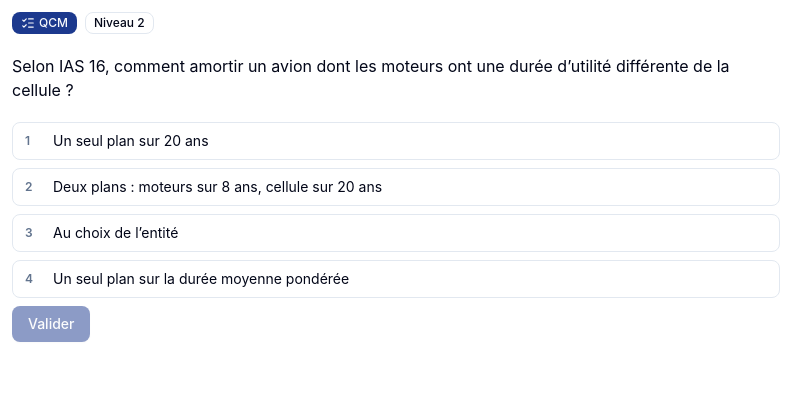
Scenario: ExercisePlayer › examen blanc : réponse verrouillée, aucune correction pendant l’épreuve
Click the radio button labelled "1 Un seul plan sur 20 ans" at (131, 140), box x1=12 y1=122 x2=780 y2=160
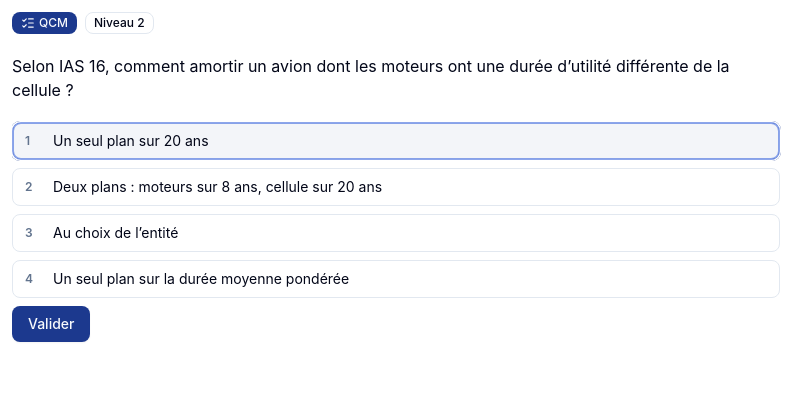
Click the button "Valider" at (51, 324), box x1=12 y1=306 x2=90 y2=342
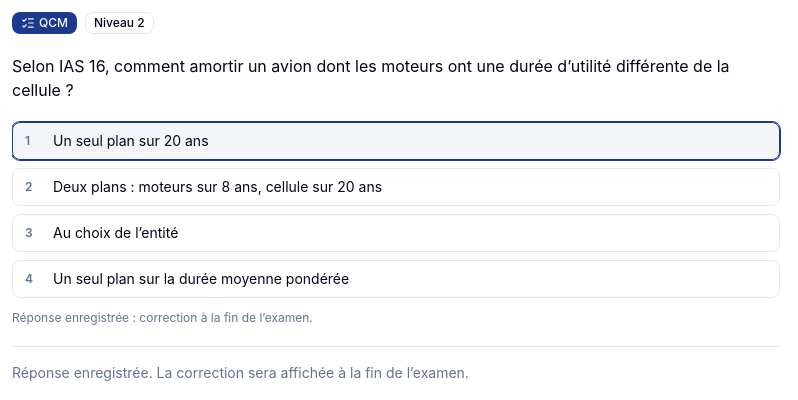
Expected: the radio button labelled "1 Un seul plan sur 20 ans" is disabled, x1=12 y1=122 x2=780 y2=160
Expected: the text "Réponse enregistrée : correction à la fin de l’examen." is shown, x1=12 y1=310 x2=313 y2=325
